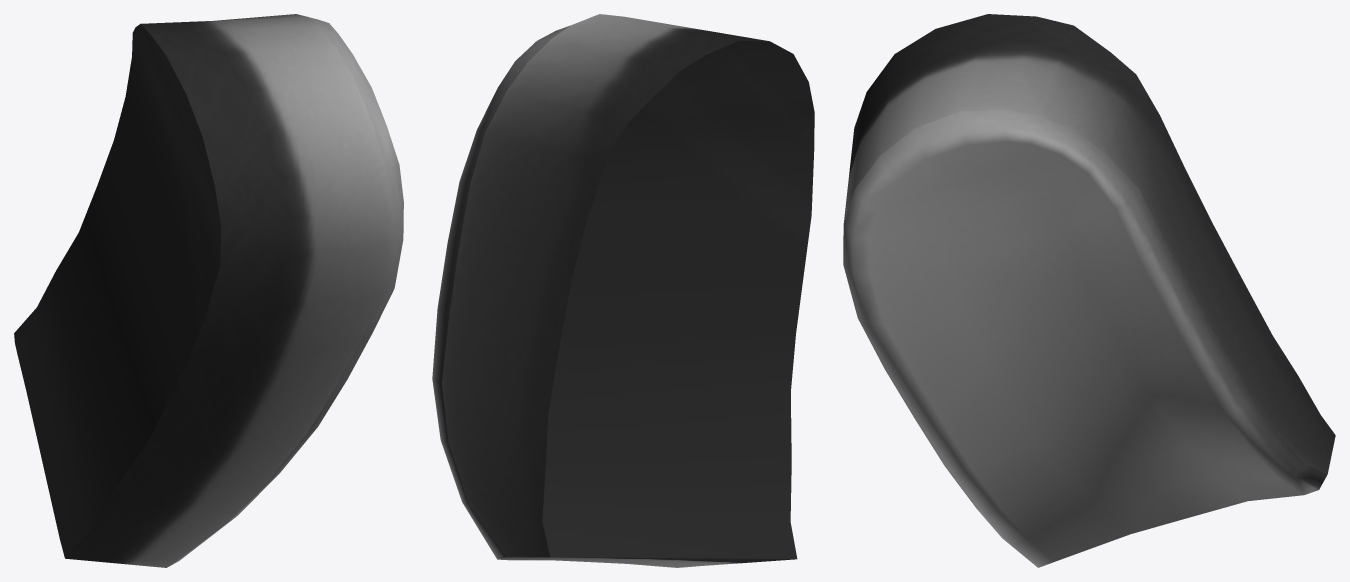
The model's file is oculus_quest2_controller_left_grip.obj.
3 renders of one model, left to right at view 1: azimuth 30°, elevation 25°; view 2: azimuth 150°, elevation 25°; view 3: azimuth 270°, elevation 25°, orthographic. The views are drawn at different scales.
Parts seen in each view (by area): view 1: oculus_quest2_controller_left_grip; view 2: oculus_quest2_controller_left_grip; view 3: oculus_quest2_controller_left_grip.
Boxes of the visible parts, bbox=[...] form: oculus_quest2_controller_left_grip: bbox=[14, 14, 403, 567]; oculus_quest2_controller_left_grip: bbox=[432, 14, 814, 567]; oculus_quest2_controller_left_grip: bbox=[843, 14, 1335, 567].
Size of the model in its own units: 0.0146 by 0.026 by 0.0216.
Materials: 1 (1 with a texture image).
